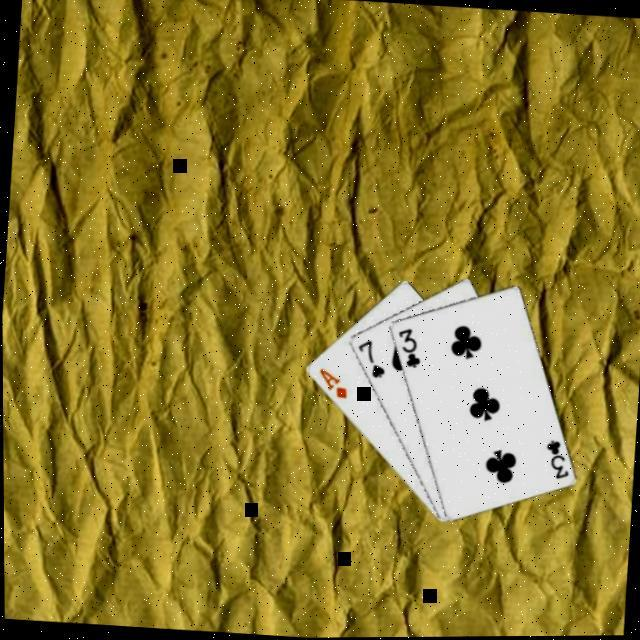3C: (538, 437, 571, 484), (391, 325, 422, 372)
7S: (350, 337, 388, 382)
AD: (312, 365, 349, 402)
